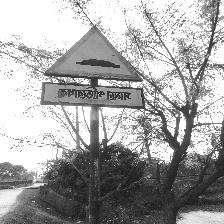Speed-breaker: (42, 26, 144, 110)
